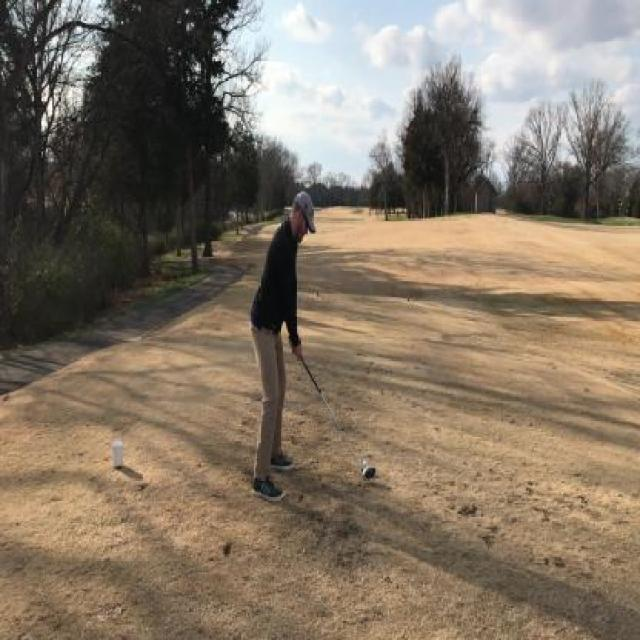club head: (360, 466, 377, 480)
